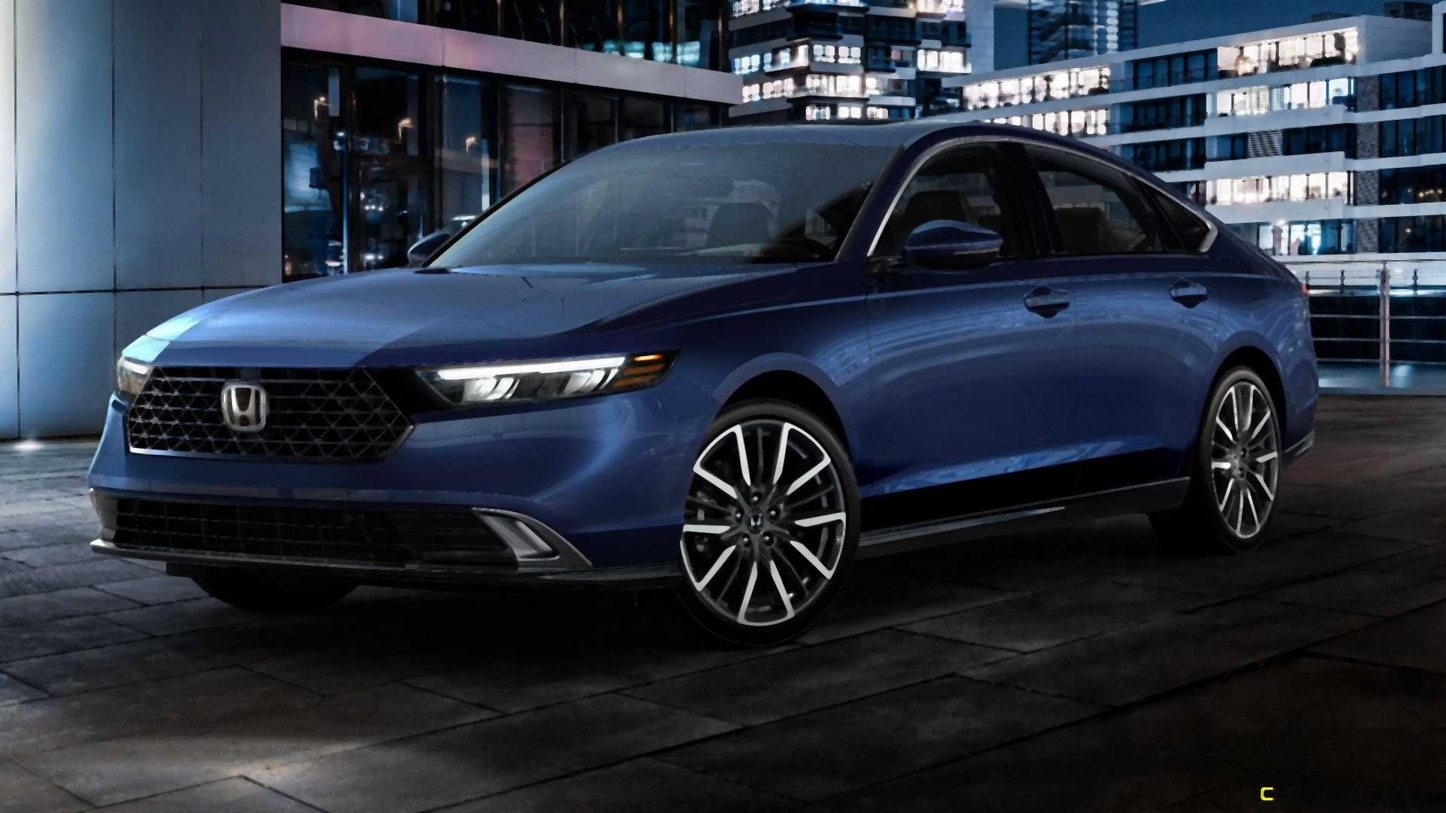Car hood: (115, 257, 811, 364)
Fender - -F-L-: (671, 251, 878, 561)
Fender - -R-L-: (1201, 275, 1302, 465)
Front bumper: (68, 382, 720, 597)
Headlight - -L-: (401, 339, 693, 421)
Headlight - -R-: (104, 341, 167, 412)
Passenger-s door - -F-L-: (876, 127, 1079, 538)
Passenger-s door - -R-L-: (1025, 130, 1232, 506)
Rear bumper: (1279, 384, 1328, 479)
Side bumper - -L-: (841, 457, 1208, 562)
Side mirror - -L-: (876, 211, 1011, 282)
Side mirror - -R-: (392, 215, 462, 285)
